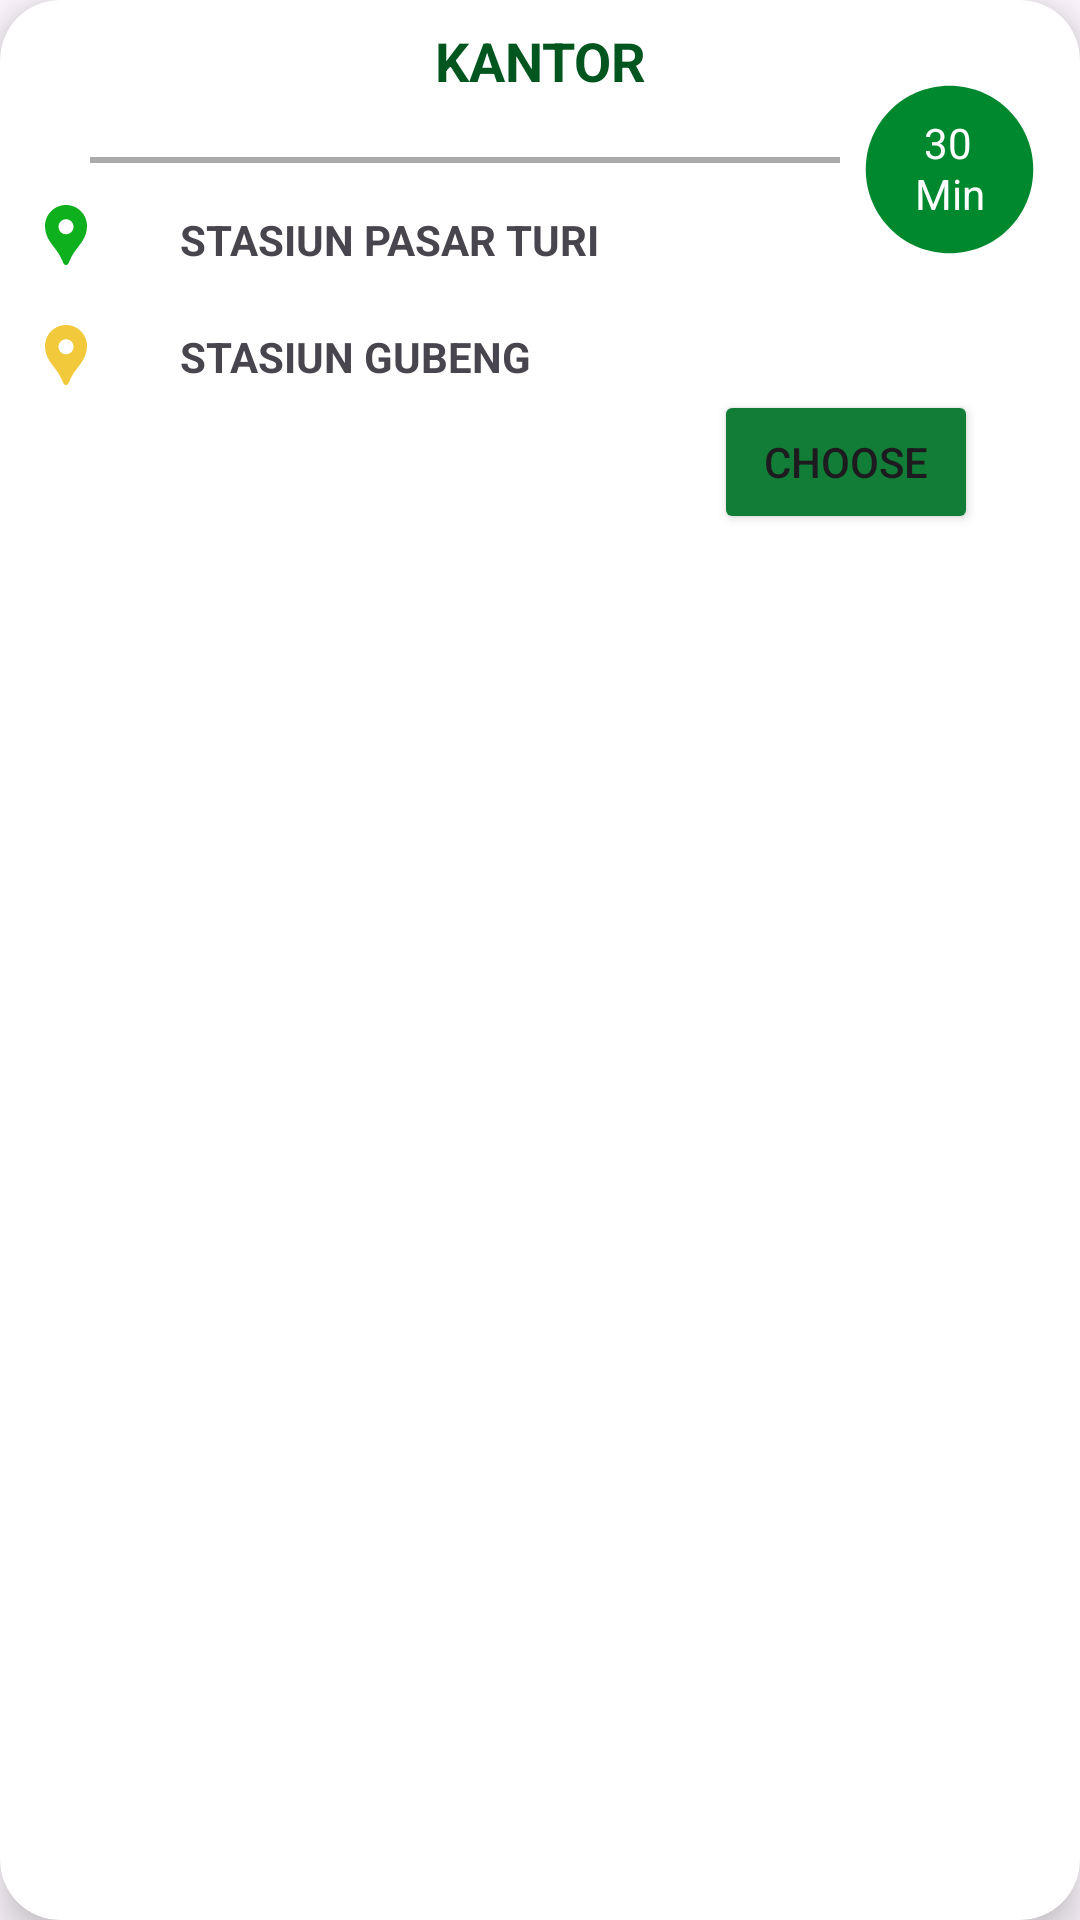

Screen size 1080*1920. Icon name, then its center in pixels as (x,y):
location asal: (66,235)
location tujuan: (66,355)
